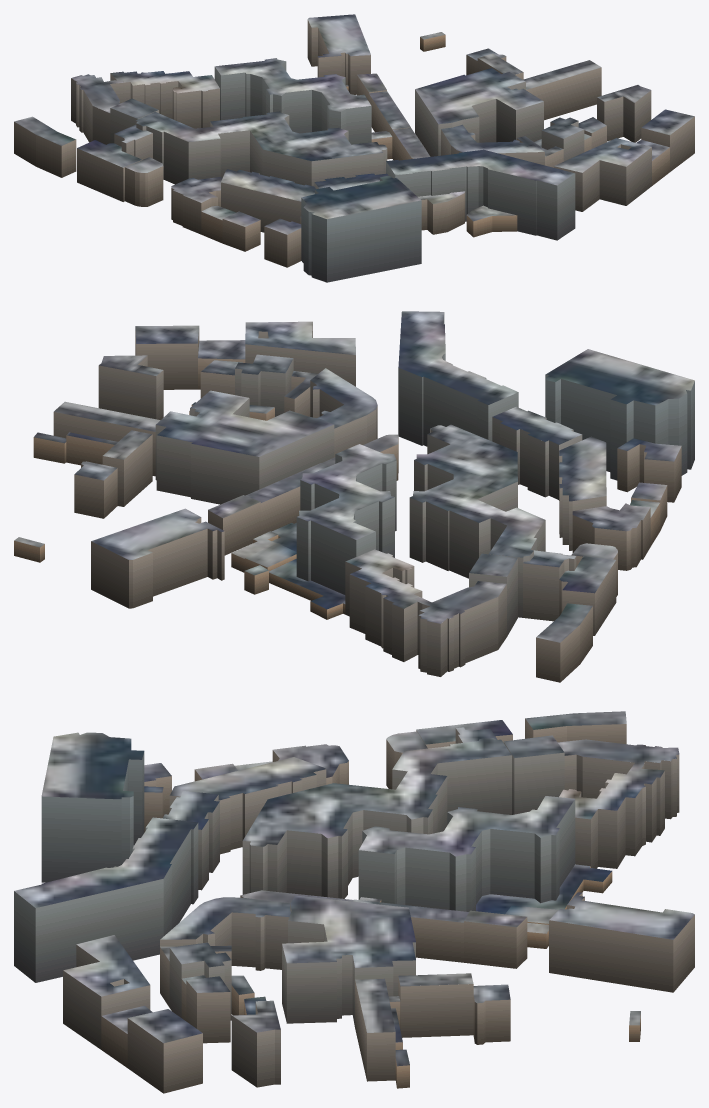
3 views of the same model, one above another, from view 1: azimuth 30°, elevation 25°; view 2: azimuth 150°, elevation 25°; view 3: azimuth 270°, elevation 25° (orthographic). The views are drawn at different scales.
Bounding box in the file's own units: 267 × 31.65 × 227.
Materials: 2 (2 with a texture image).
